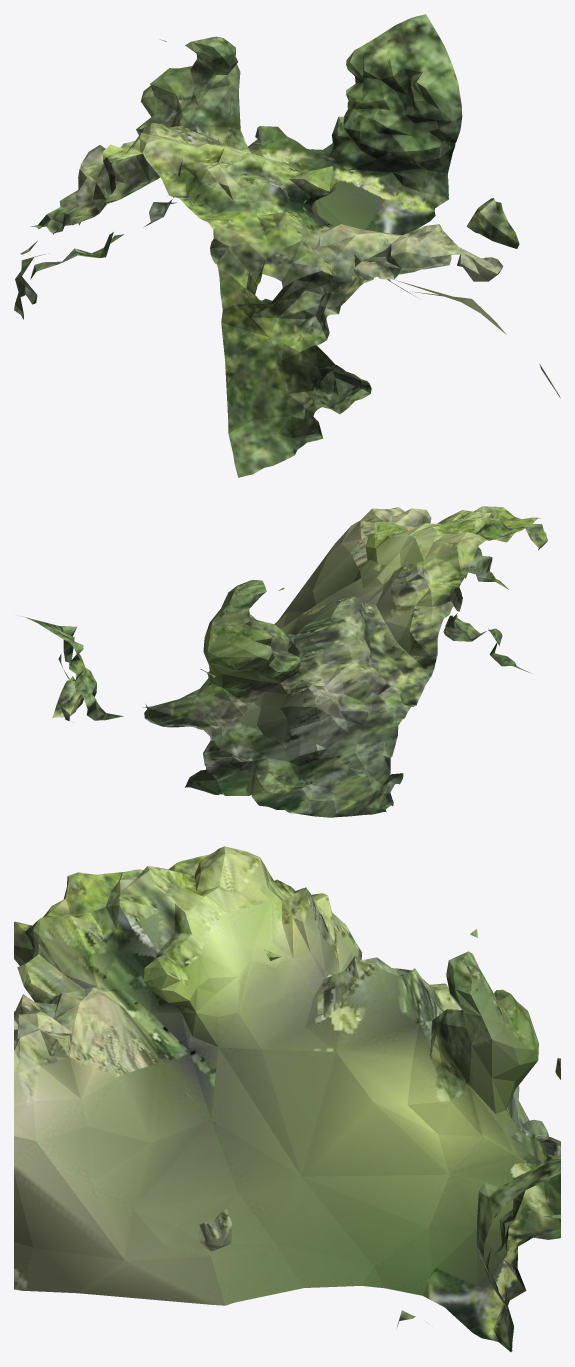
3 renders of one model, top to bottom at view 1: azimuth 30°, elevation 25°; view 2: azimuth 150°, elevation 25°; view 3: azimuth 270°, elevation 25°, orthographic. The views are drawn at different scales.
Size of the model in its own units: 26.11 by 14.71 by 26.11.
3 materials, 3 textured.
